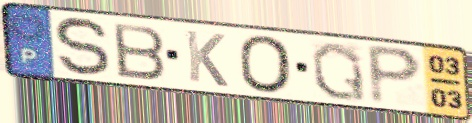B: (110, 21, 169, 83)
K: (182, 27, 231, 89)
O: (236, 33, 295, 96)
P: (364, 42, 426, 108)
Q: (309, 40, 369, 104)
S: (52, 15, 114, 78)
